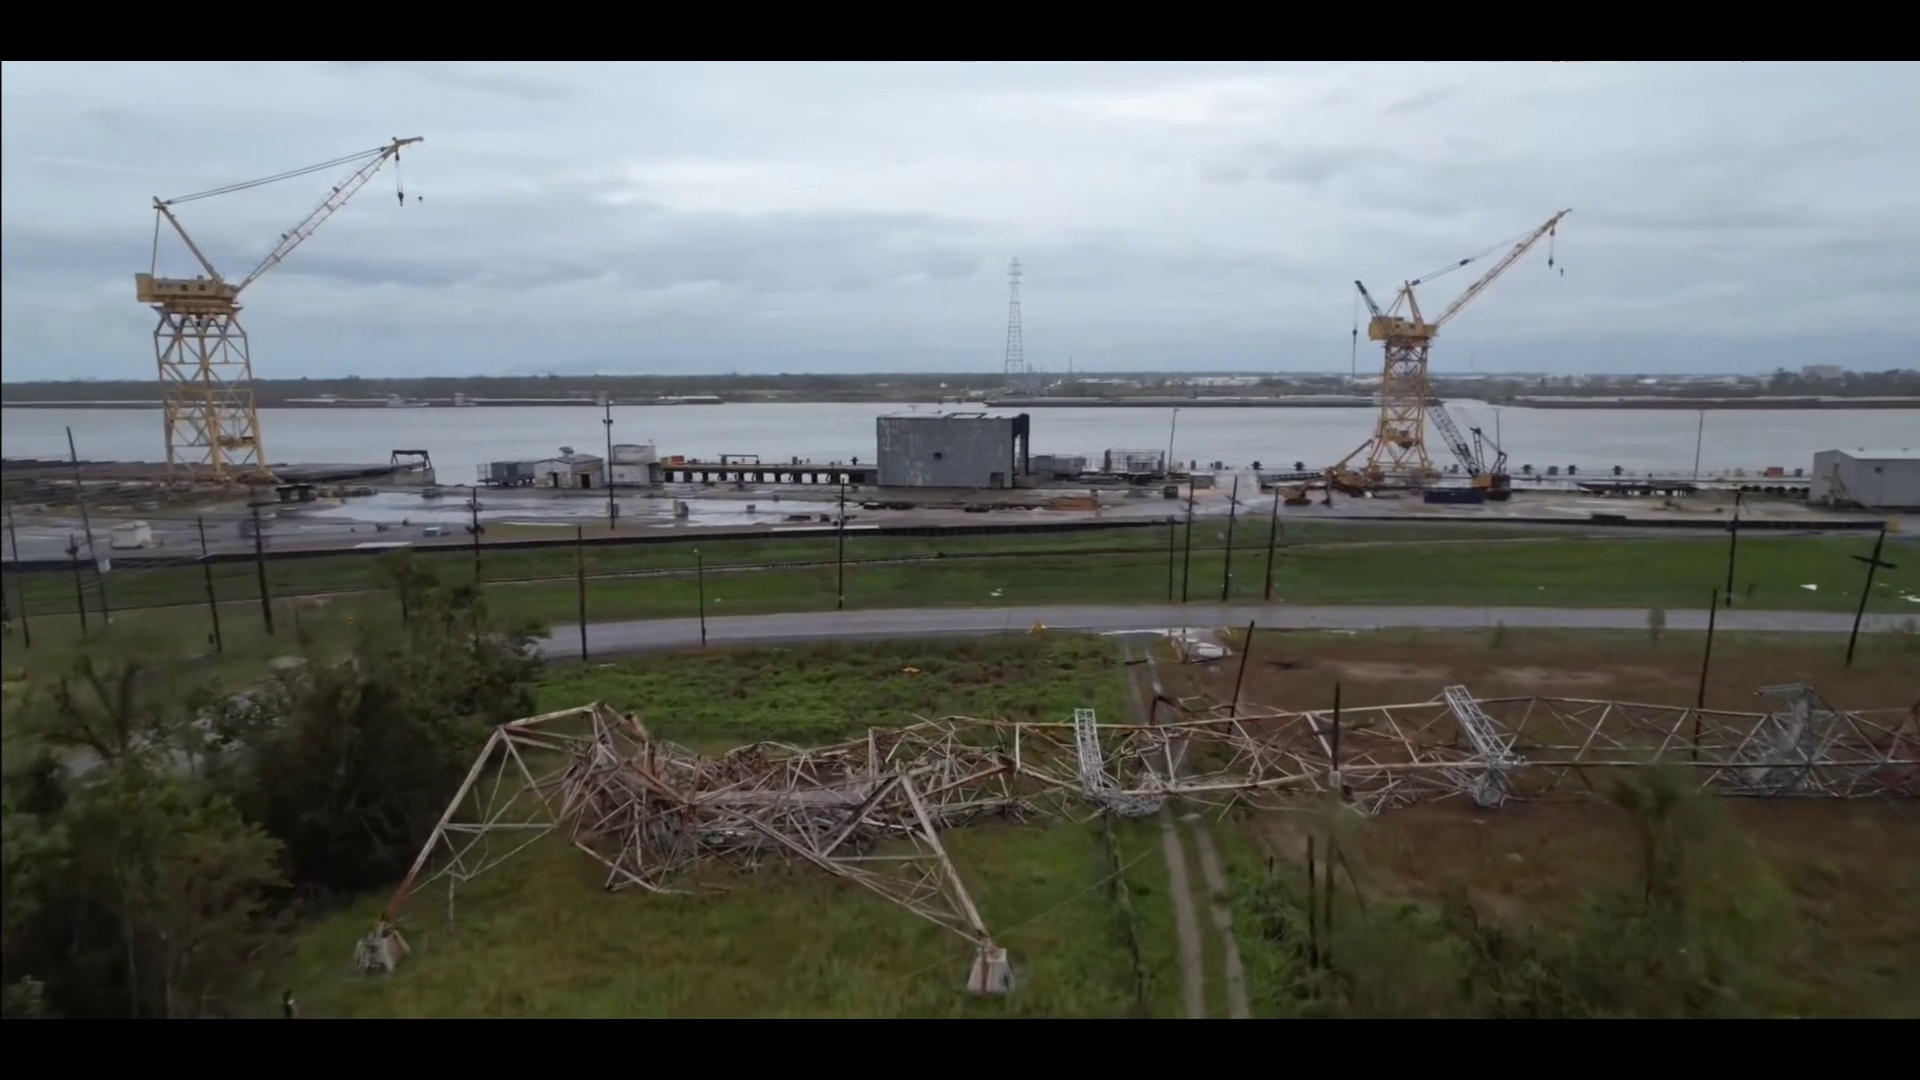tower_down: (405, 632, 1895, 894)
